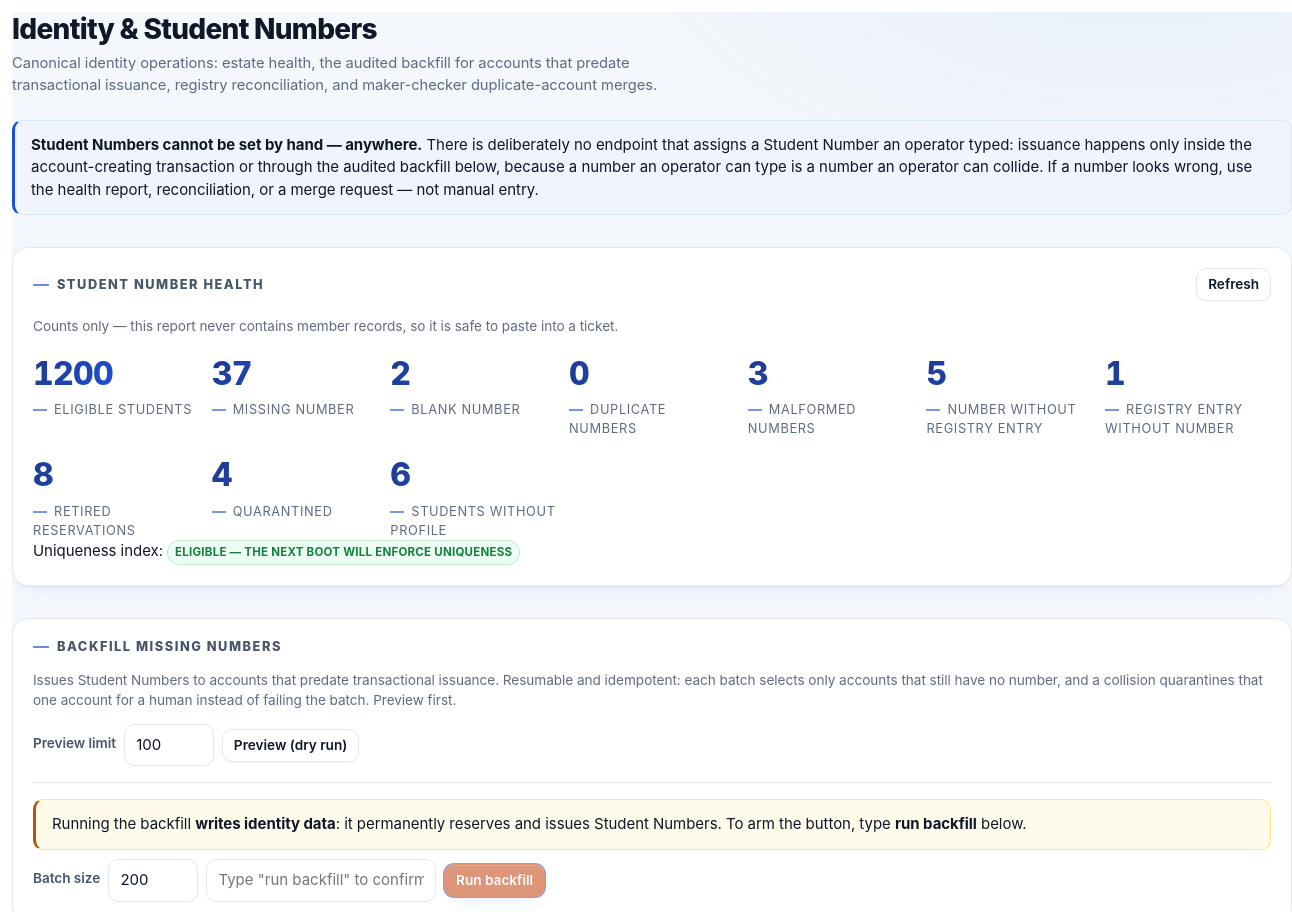
backfill run confirmation gate › keeps the run disarmed until "run backfill" is typed literally
Expected: the button "Run backfill" is disabled, [444,864,545,897]
Step 1. Type "run the backfill" into the field labelled "Type \"run backfill\" to confirm" → (321, 880), box [206,859,436,902]
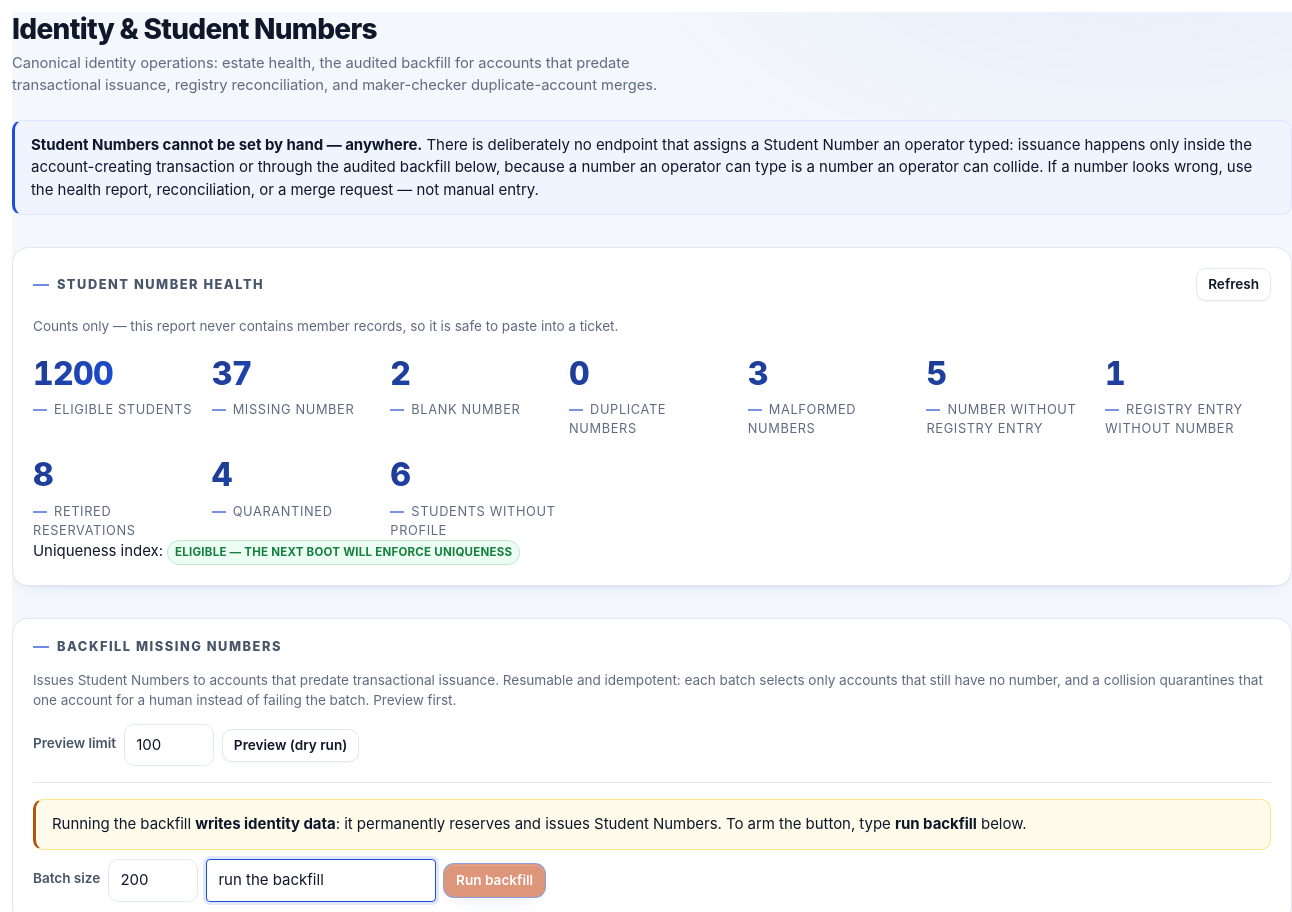
Expected: the button "Run backfill" is disabled, [444,864,545,897]
Step 2. Replace the text in the field named "Type \"run backfill\" to confirm" with "RUN BACKFILL" → (321, 880), box [206,859,436,902]
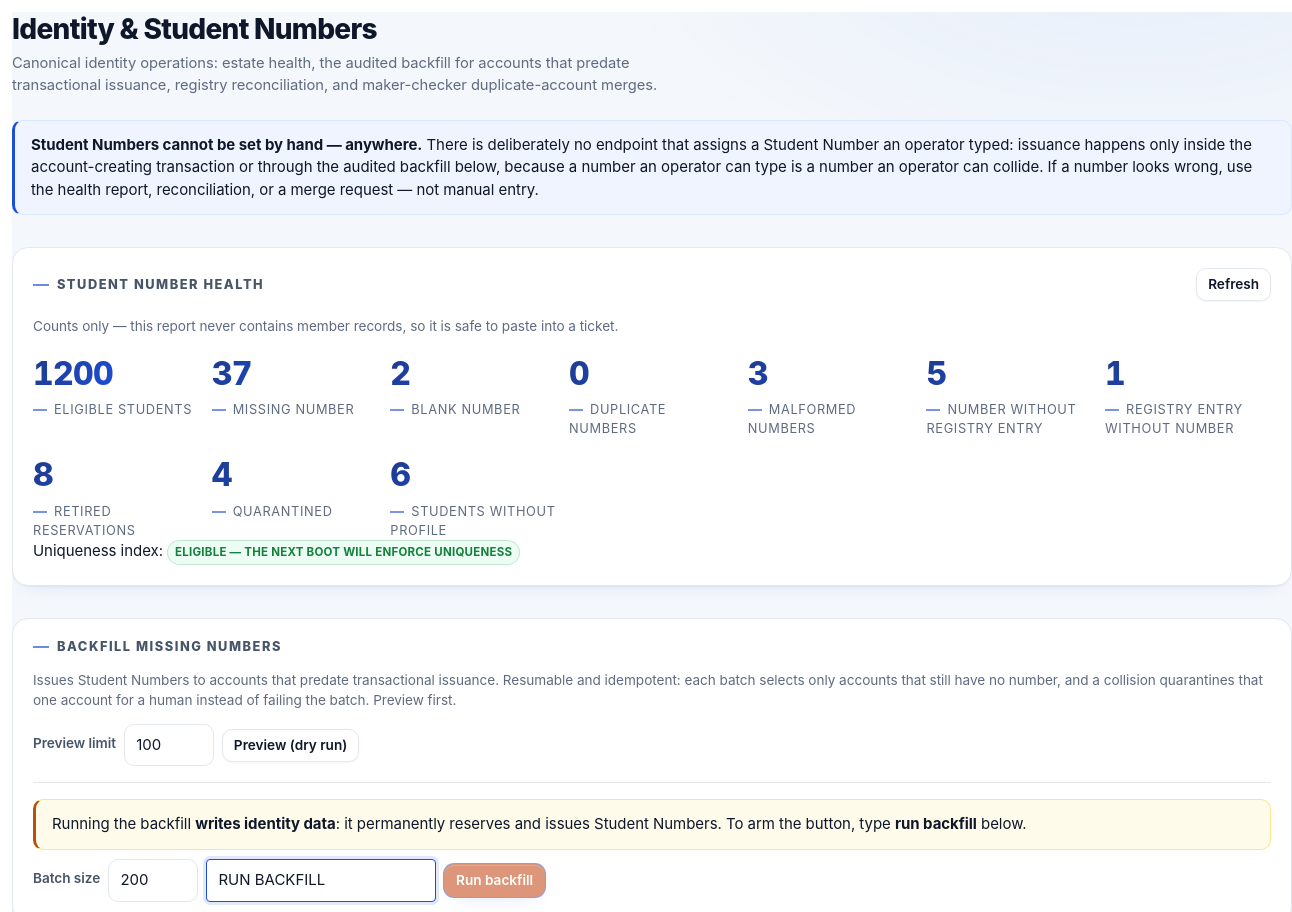
Expected: the button "Run backfill" is disabled, [444,864,545,897]
Step 3. Replace the text in the field named "Type \"run backfill\" to confirm" with "run backfill" → (321, 880), box [206,859,436,902]
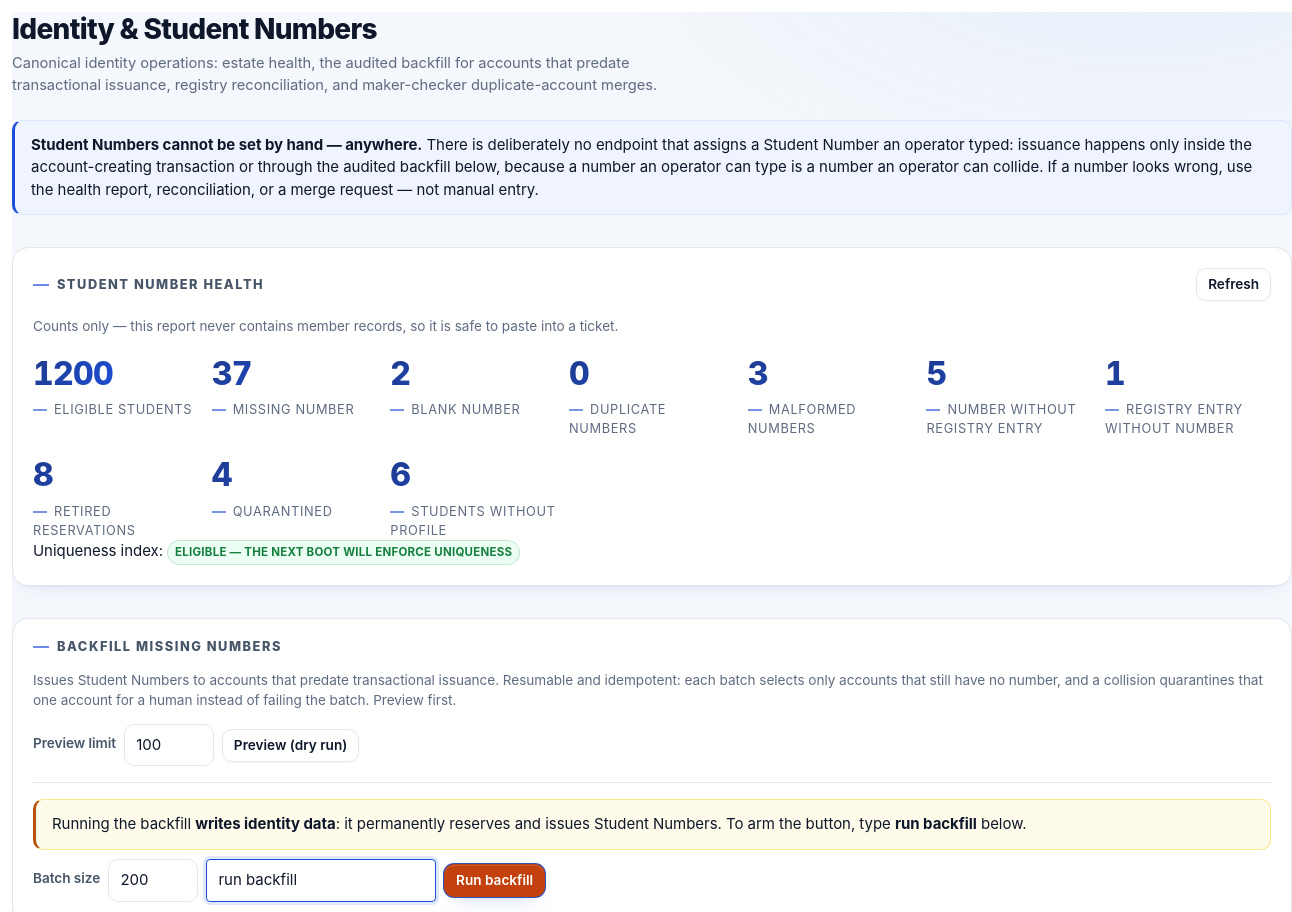
Expected: the button "Run backfill" is enabled, [444,864,545,897]
